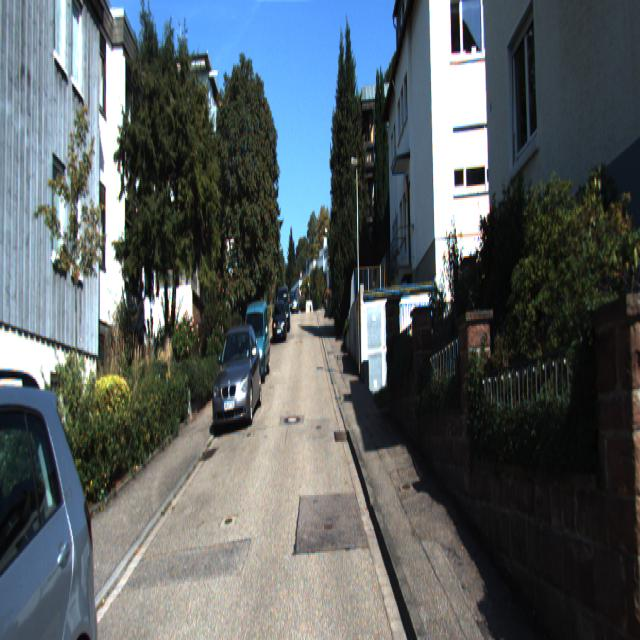Car: (0, 346, 119, 638), (210, 320, 264, 428), (240, 300, 272, 384), (276, 286, 290, 332), (272, 298, 287, 339)
